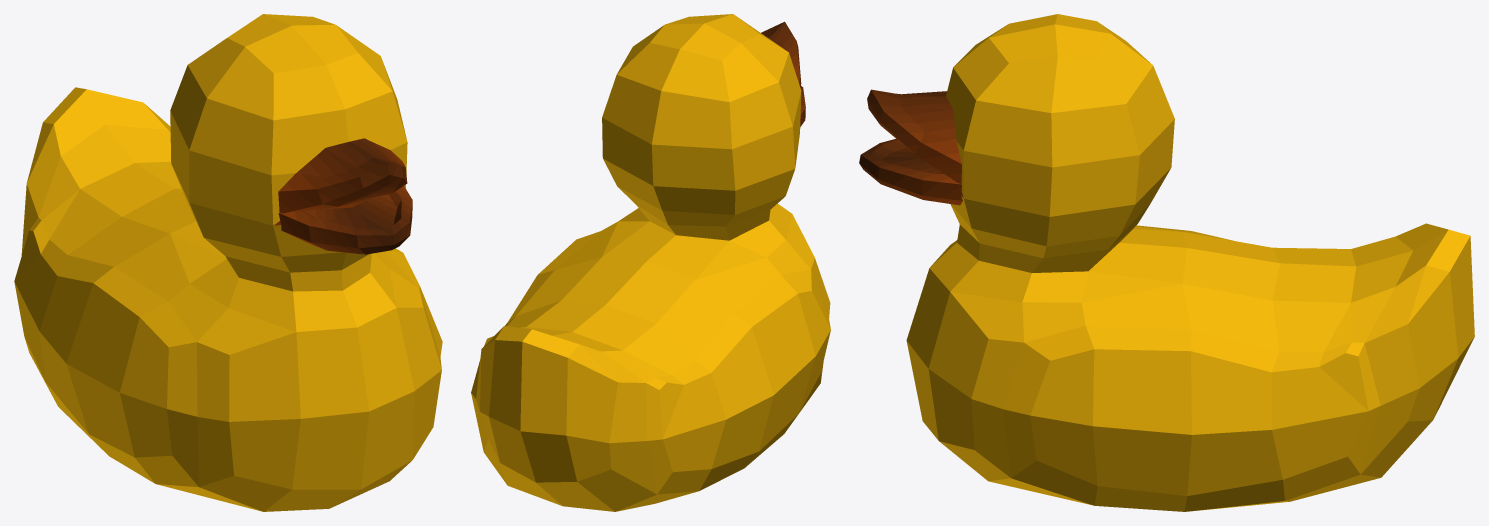
The model's file is Hubs duck.glb.
The picture shows the model from 3 angles, left to right: view 1: azimuth 30°, elevation 25°; view 2: azimuth 150°, elevation 25°; view 3: azimuth 270°, elevation 25°; orthographic projection. The views are drawn at different scales.
Visible parts, largest first — view 1: node-0; view 2: node-0; view 3: node-0.
Boxes of the visible parts, x1=… form: node-0: x1=14, y1=14, x2=442, y2=511; node-0: x1=471, y1=14, x2=830, y2=511; node-0: x1=859, y1=14, x2=1474, y2=511.
Size of the model in its own units: 3.97 by 5.82 by 7.16.
2 materials, 2 textured.
